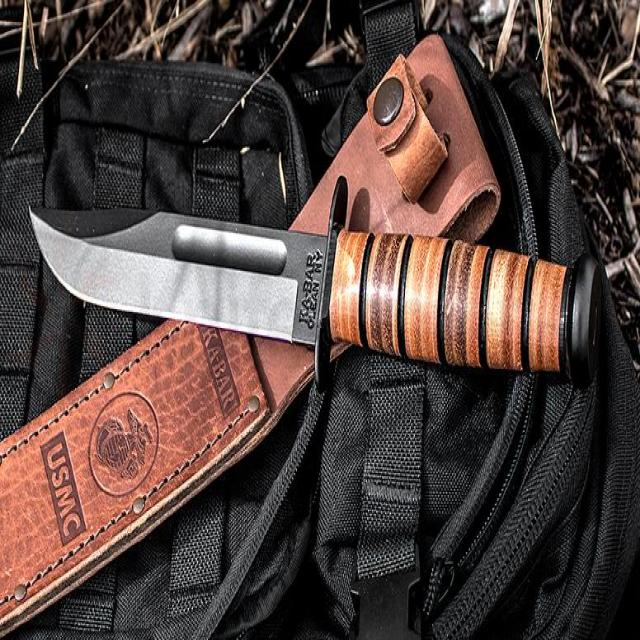knife: (23, 184, 613, 419)
